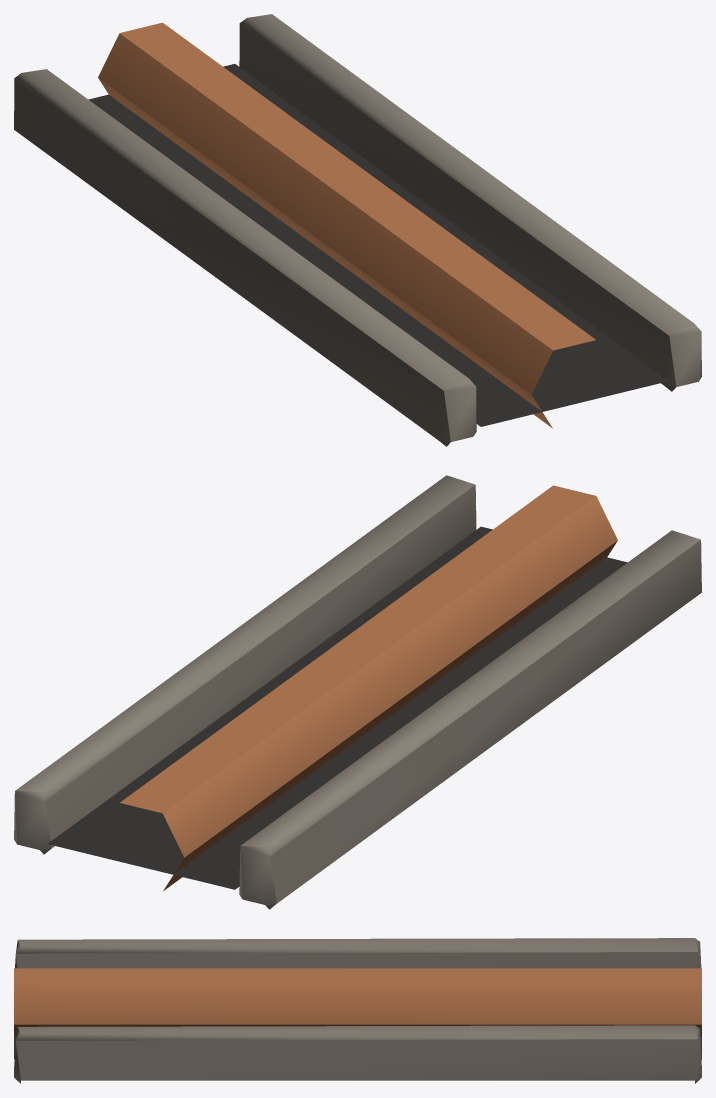
The model's file is ruins-pc-arm-low.glb.
3 renders of one model, top to bottom at view 1: azimuth 30°, elevation 25°; view 2: azimuth 150°, elevation 25°; view 3: azimuth 270°, elevation 25°, orthographic. The views are drawn at different scales.
Parts seen in each view (by area): view 1: 0_ruins_pc_arm; view 2: 0_ruins_pc_arm; view 3: 0_ruins_pc_arm.
Part boxes in pixels (box(x1,y1,x2,y2)): 0_ruins_pc_arm: box(14, 14, 701, 446); 0_ruins_pc_arm: box(14, 475, 701, 909); 0_ruins_pc_arm: box(14, 938, 701, 1083).
Bounding box in the file's own units: 0.14 × 0.0398 × 0.4.
